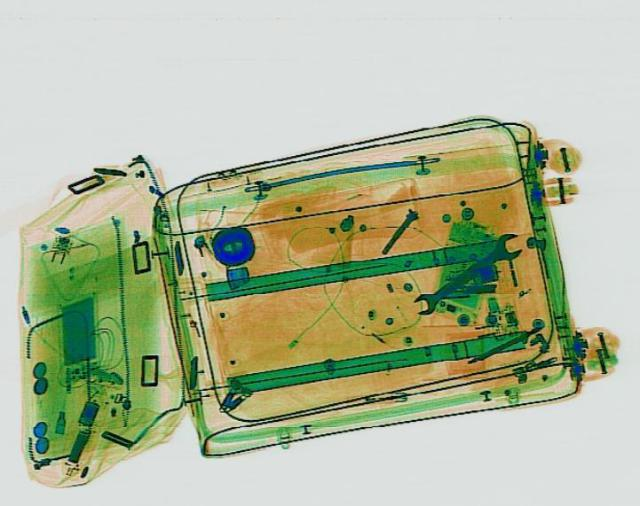Wrench: (402, 227, 532, 317)
